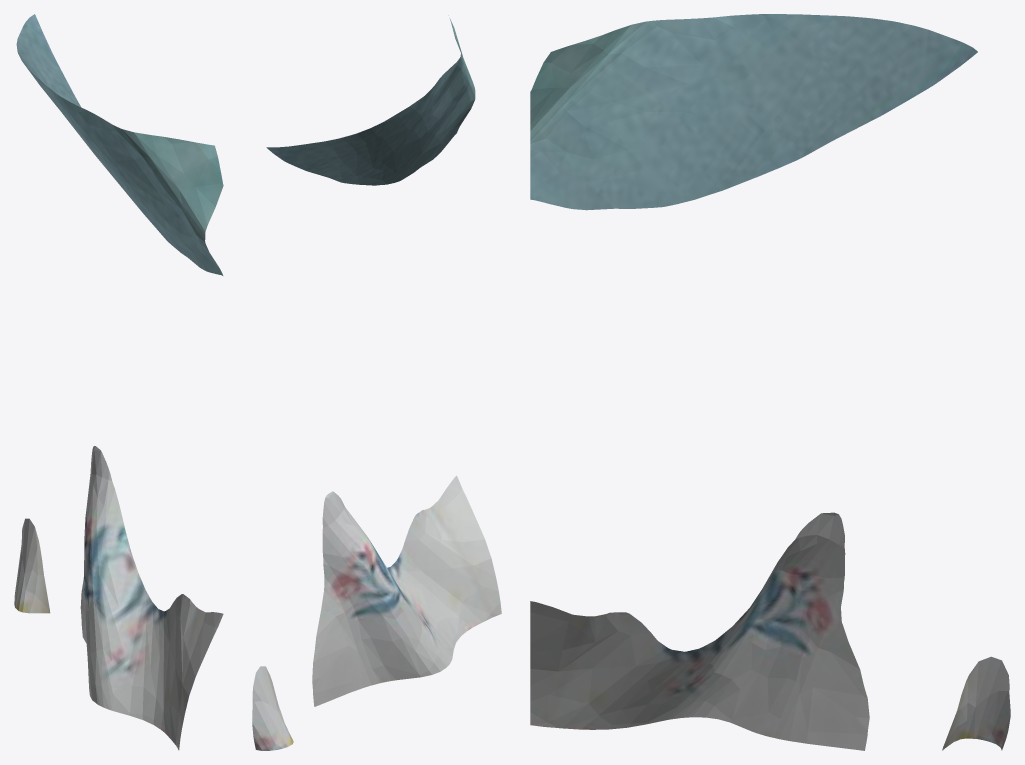
The picture shows the model from 3 angles, left to right: view 1: azimuth 30°, elevation 25°; view 2: azimuth 150°, elevation 25°; view 3: azimuth 270°, elevation 25°; orthographic projection. The views are drawn at different scales.
Visible parts, largest first — view 1: 091_W_Aya_100K_01; view 2: 091_W_Aya_100K_01; view 3: 091_W_Aya_100K_01.
Part boxes in pixels (box(x1,y1,x2,y2)): 091_W_Aya_100K_01: box(14, 14, 223, 750); 091_W_Aya_100K_01: box(252, 15, 501, 750); 091_W_Aya_100K_01: box(530, 14, 1010, 750).
Size of the model in its own units: 19.99 by 171 by 107.
1 material, 1 textured.
